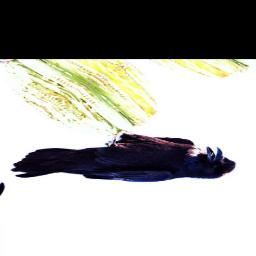Crow: (1, 95, 244, 237)
